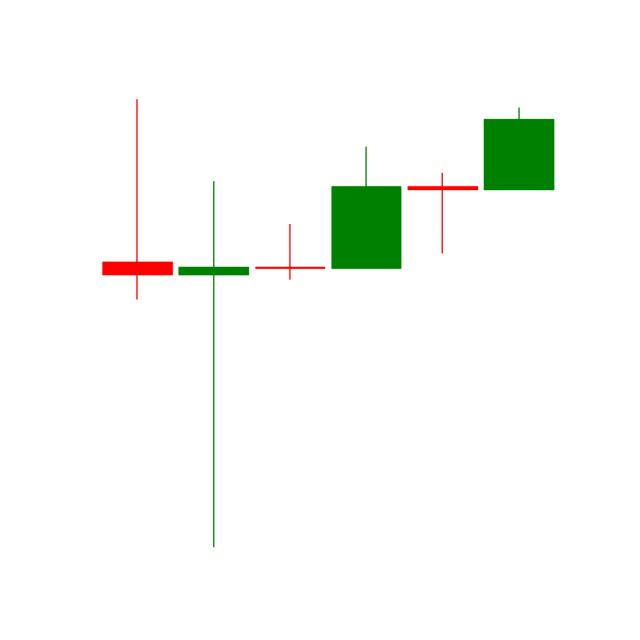Dragonfly Doji: (100, 95, 174, 303), (403, 172, 481, 255)
Gravenstone Doji: (254, 222, 326, 282)
Inverted Hammer: (328, 145, 402, 270)
Long-Legged Doji: (179, 177, 248, 553)
